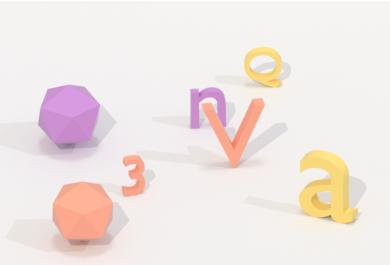0-TronCanh: (33, 79, 105, 150), (47, 177, 115, 243)
3: (119, 153, 148, 201)
Q: (241, 43, 285, 92)
V: (201, 95, 268, 173)
a: (294, 144, 360, 229)
n: (185, 83, 230, 134)
